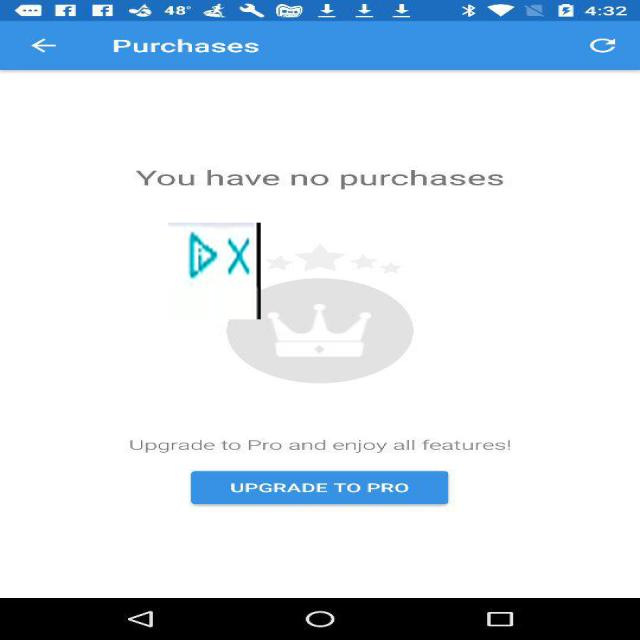sneaking: (168, 223, 261, 319)
